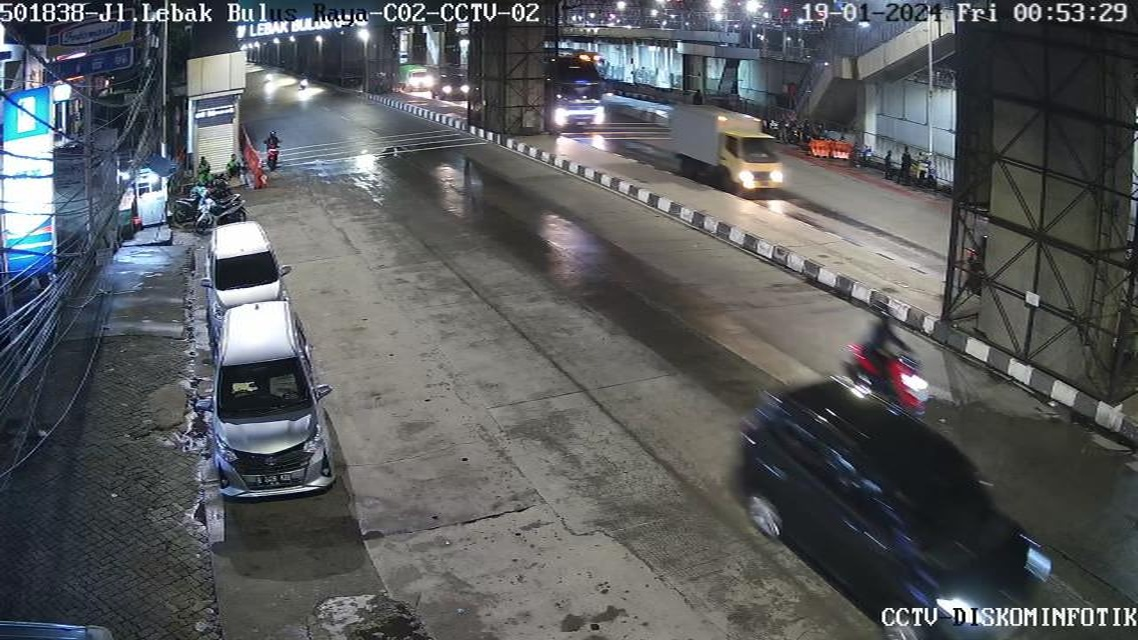Gerobak: (133, 168, 172, 227)
